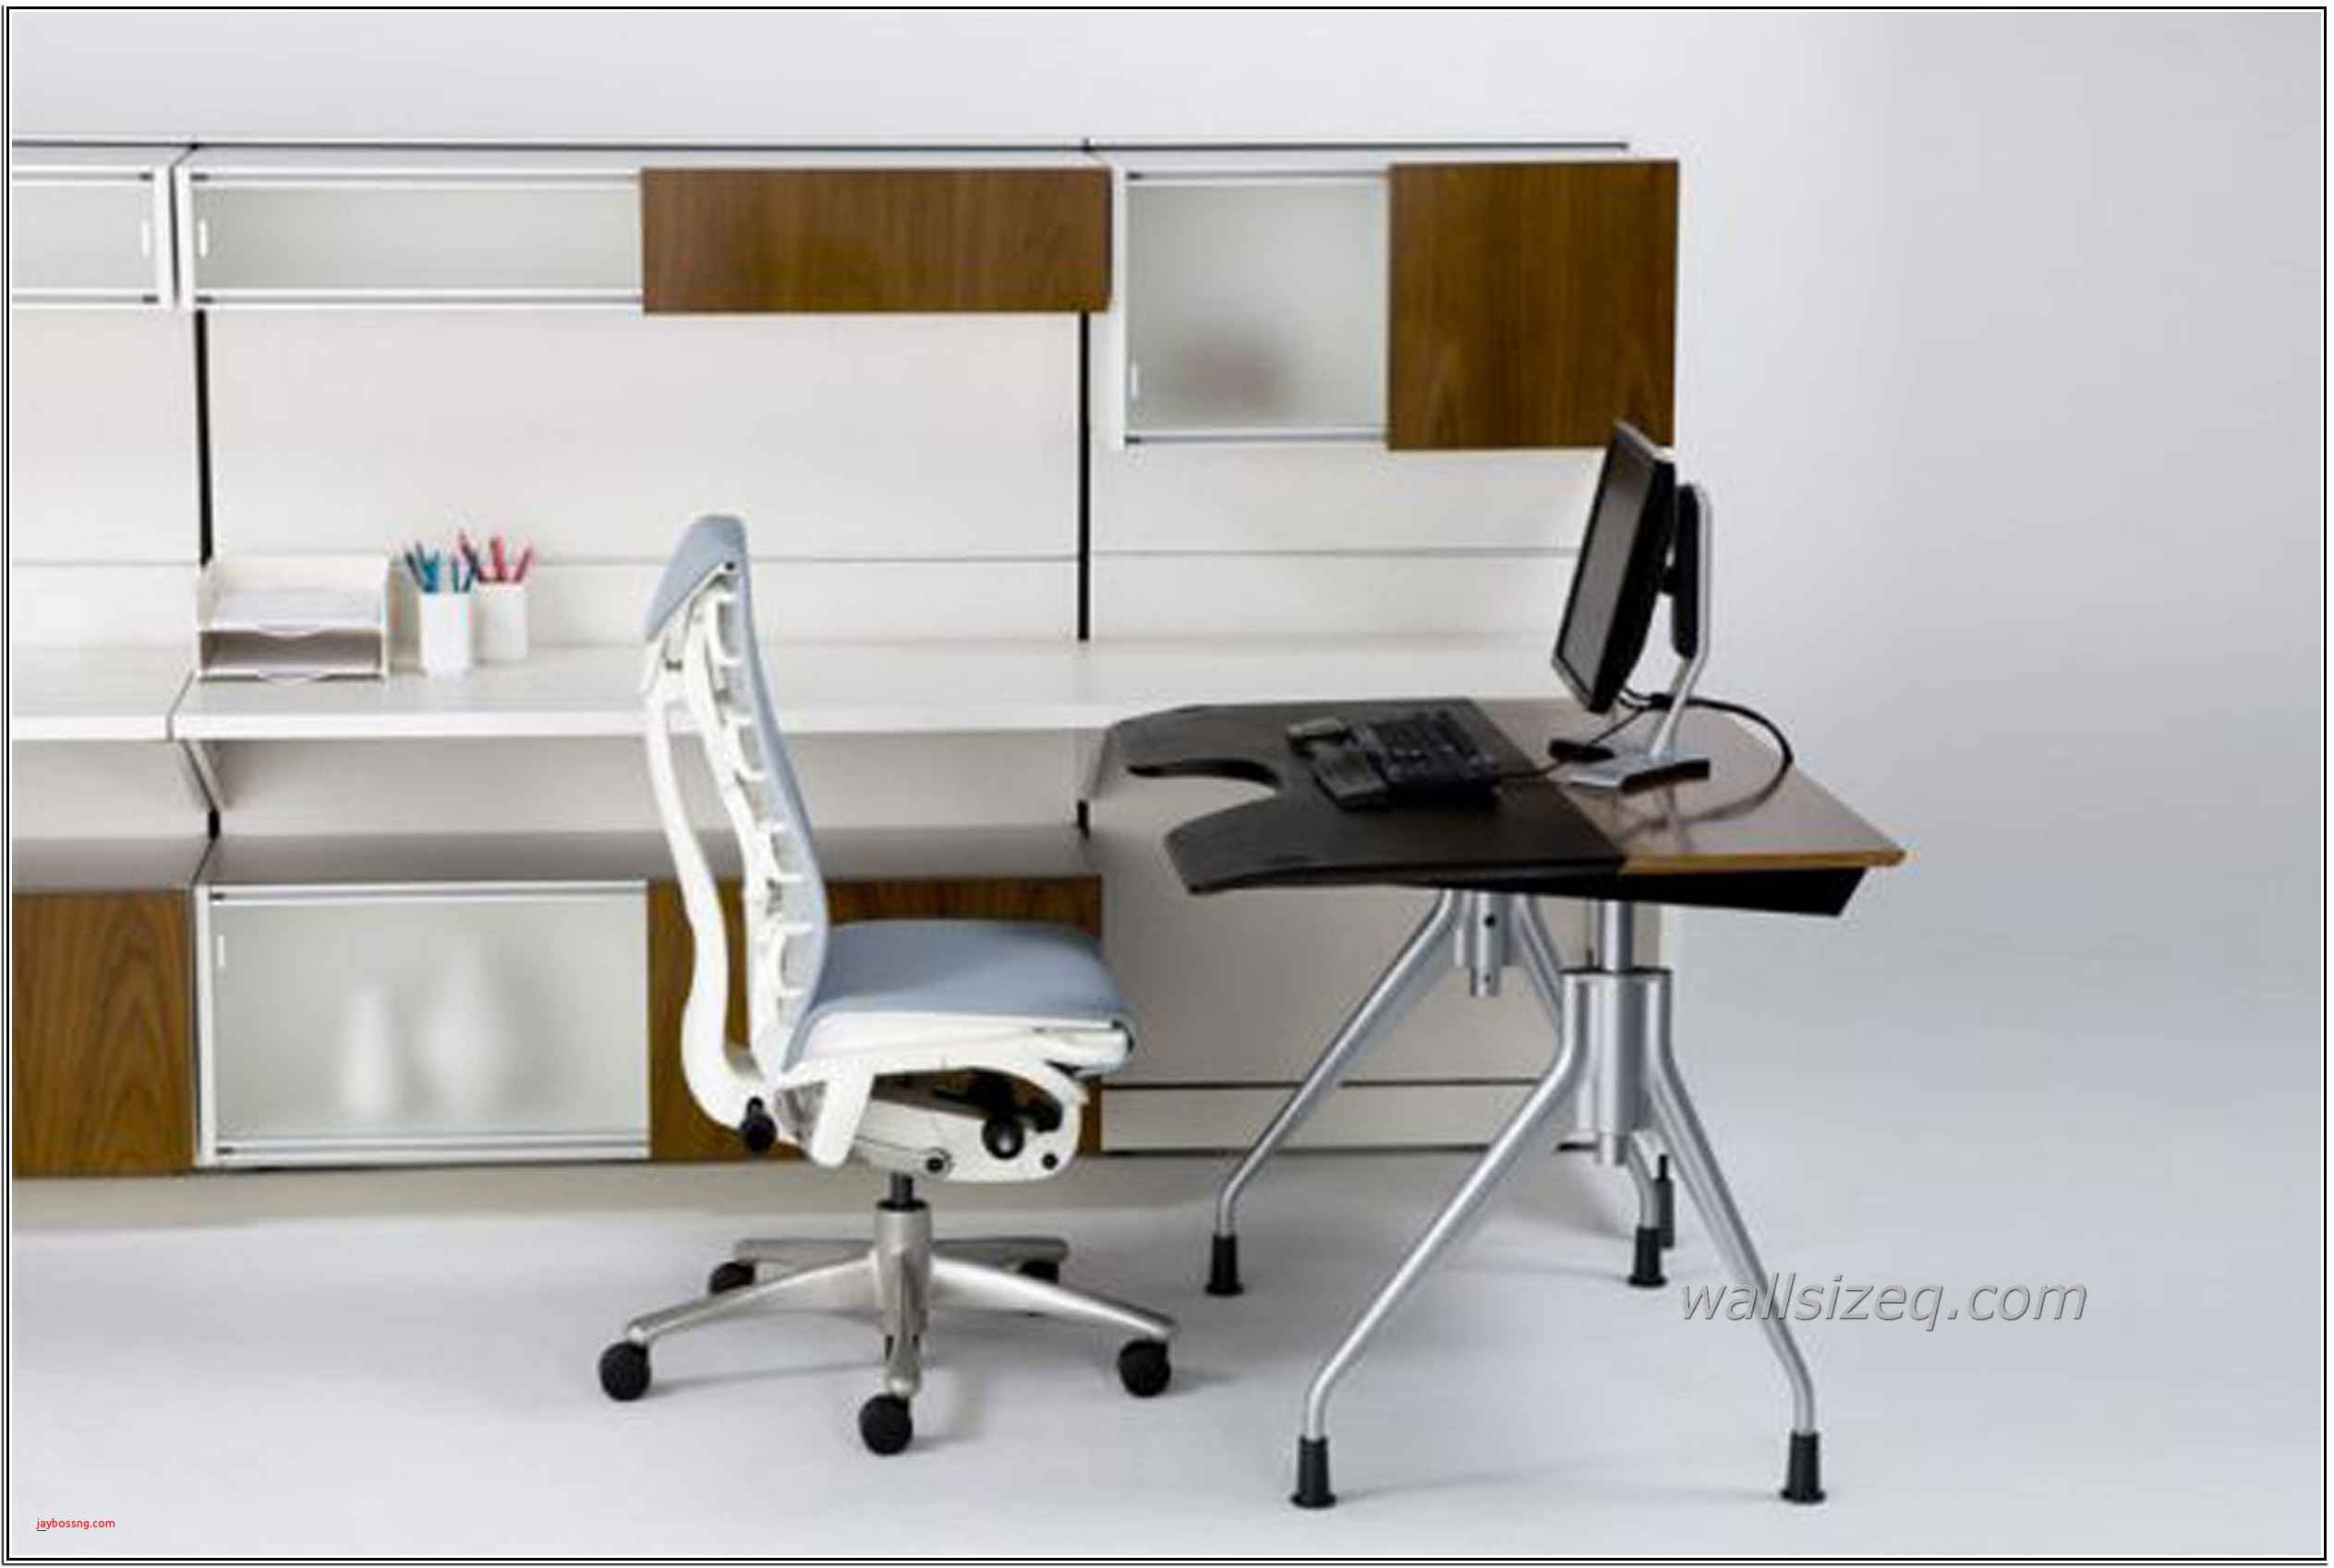chairs: (581, 508, 1184, 1496)
